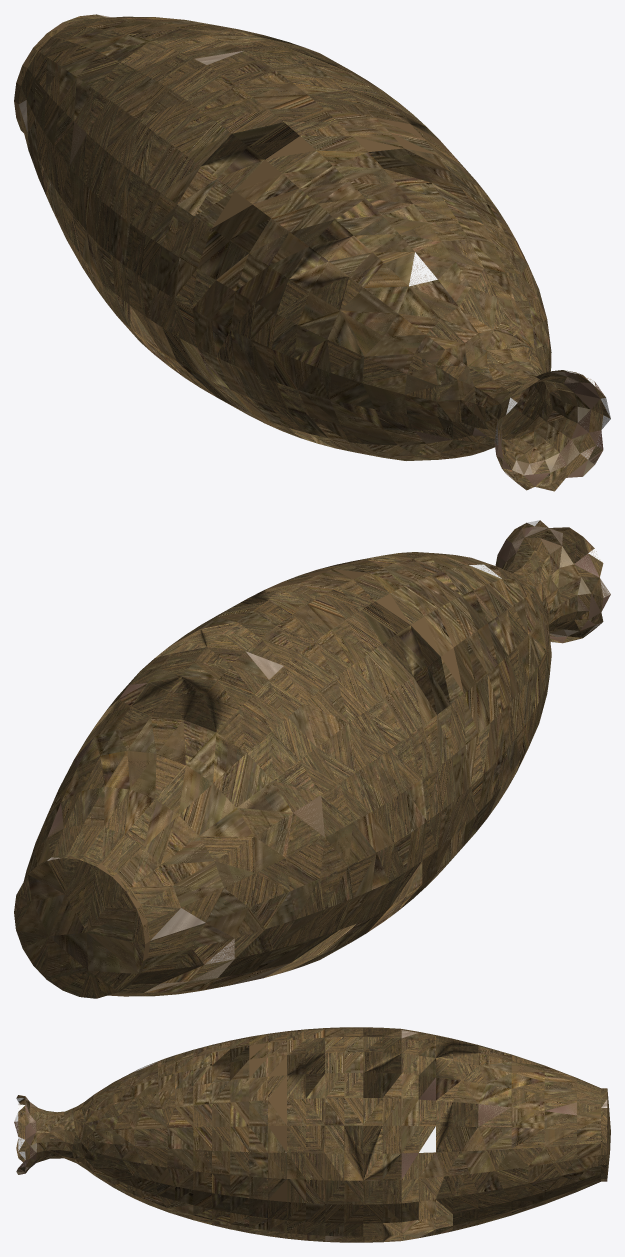
The model's file is model_align.obj.
The picture shows the model from 3 angles, top to bottom: view 1: azimuth 30°, elevation 25°; view 2: azimuth 150°, elevation 25°; view 3: azimuth 270°, elevation 25°; orthographic projection. The views are drawn at different scales.
Bounding box in the file's own units: 0.0968 × 0.0968 × 0.2671.
2 materials, 2 textured.
